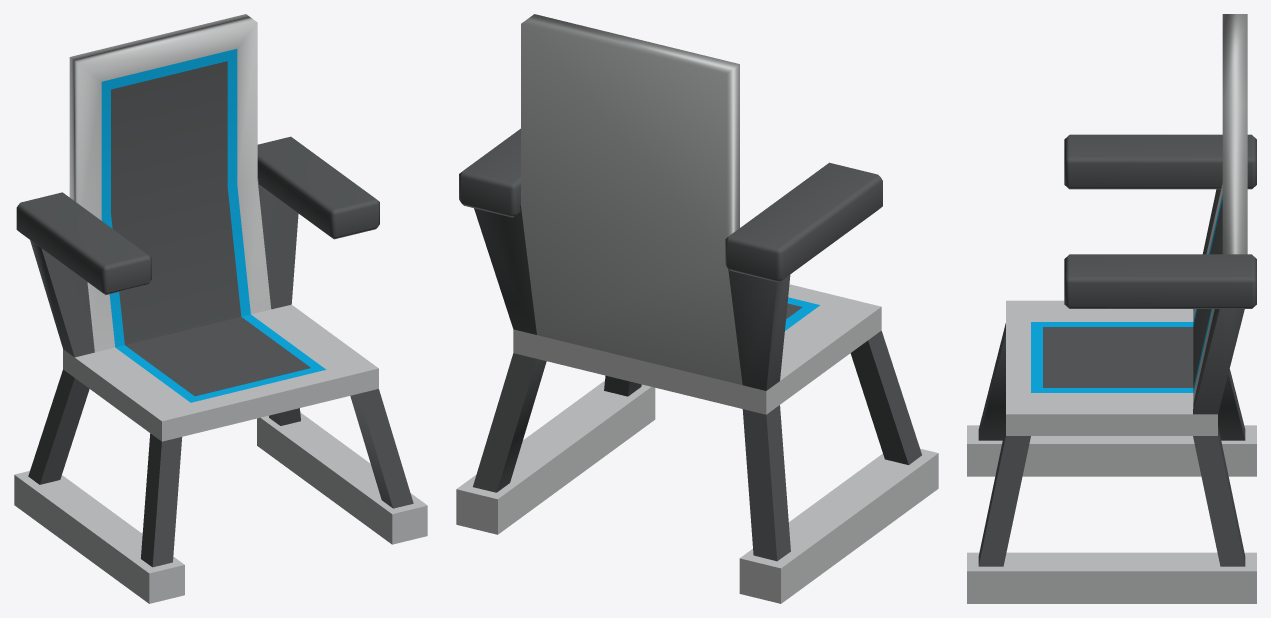
The model's file is Chair_013.fbx.
The picture shows the model from 3 angles, left to right: view 1: azimuth 30°, elevation 25°; view 2: azimuth 150°, elevation 25°; view 3: azimuth 270°, elevation 25°; orthographic projection. The views are drawn at different scales.
Parts seen in each view (by area): view 1: Chair_013; view 2: Chair_013; view 3: Chair_013.
Part boxes in pixels (x1,y1,x2,y2): Chair_013: [14, 14, 427, 603]; Chair_013: [456, 14, 938, 603]; Chair_013: [967, 14, 1256, 603].
Bounding box in the file's own units: 76.18 × 64 × 115.
